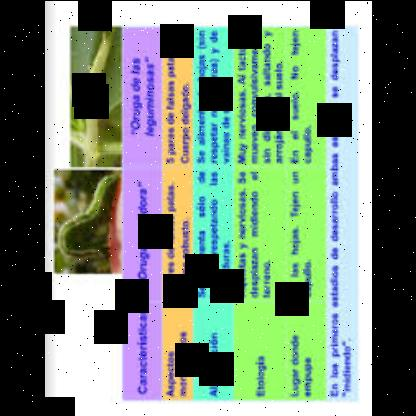oruga: (50, 173, 119, 265), (74, 26, 112, 166)
